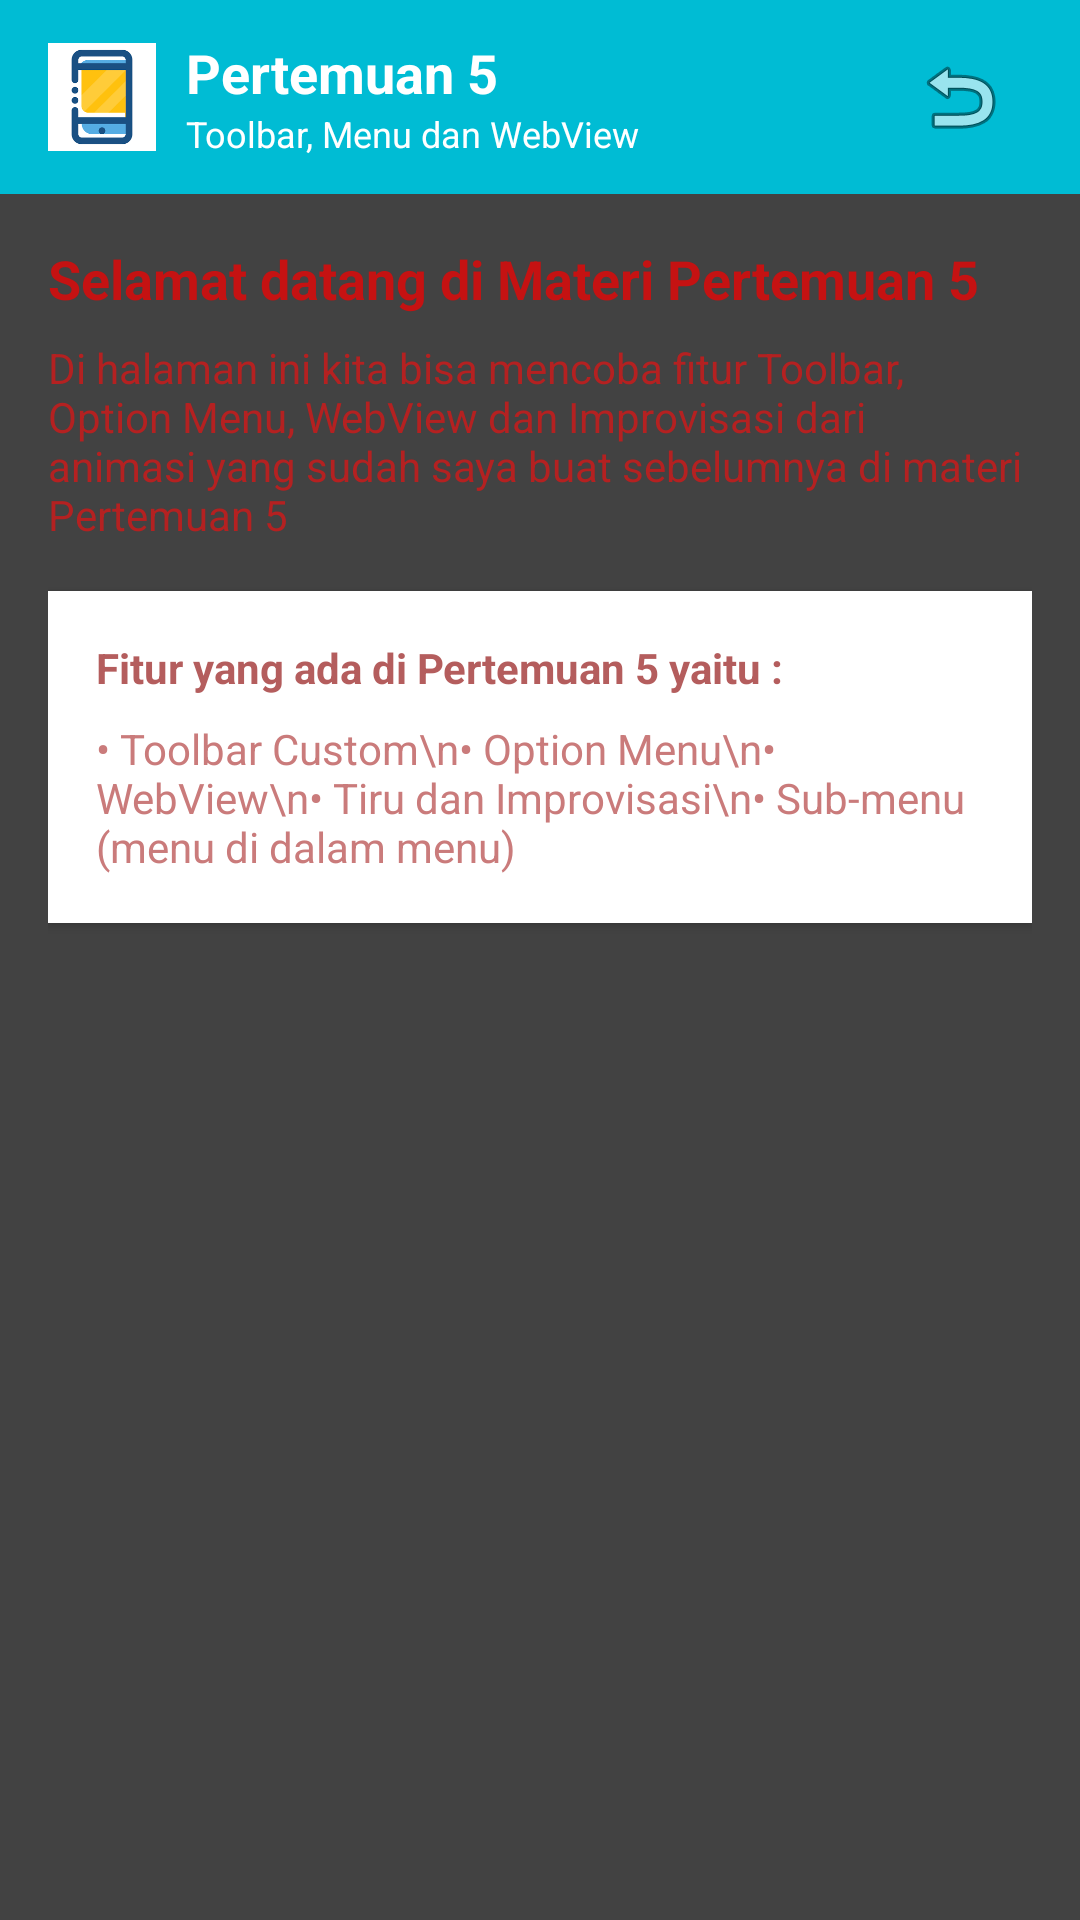

Named icons in this screenshot (1080 x 1920) and their bounding boxes, box=[x1, y1, x2, y2]:
revert: box=[927, 66, 996, 129]
